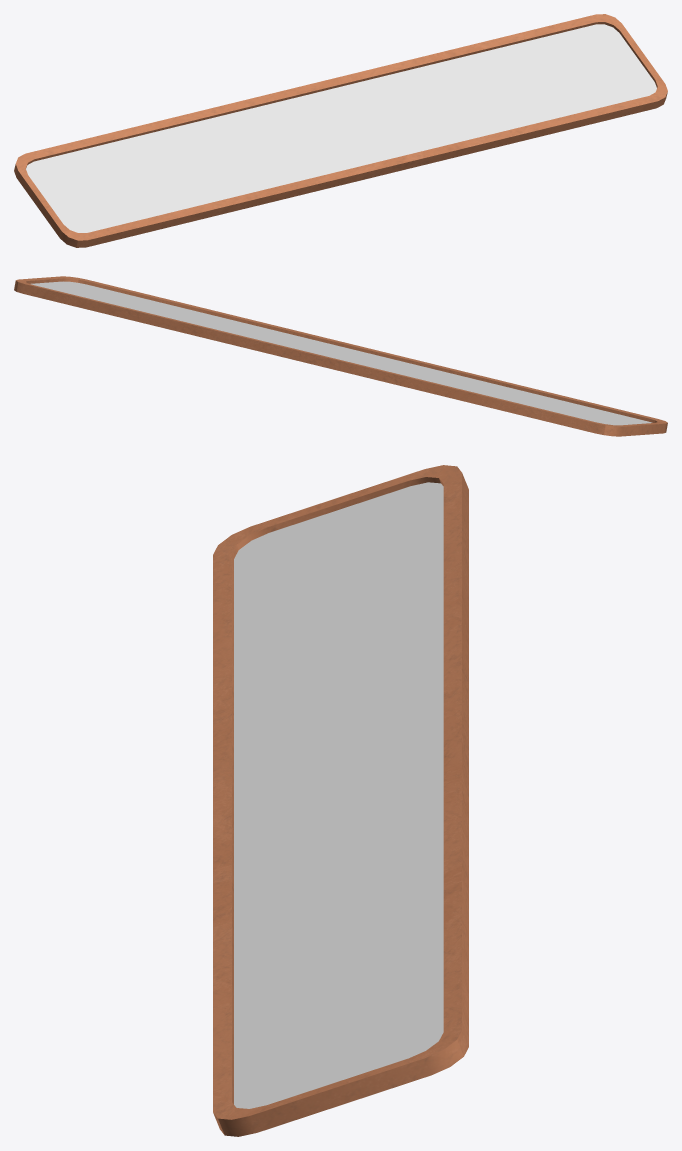
The model's file is InfoTable_Head.fbx.
The picture shows the model from 3 angles, top to bottom: view 1: azimuth 30°, elevation 25°; view 2: azimuth 150°, elevation 25°; view 3: azimuth 270°, elevation 25°; orthographic projection. The views are drawn at different scales.
Visible parts, largest first — view 1: InfoTable_Headline_Base; view 2: InfoTable_Headline_Base; view 3: InfoTable_Headline_Base.
Boxes of the visible parts, bbox=[...] form: InfoTable_Headline_Base: bbox=[14, 14, 667, 247]; InfoTable_Headline_Base: bbox=[14, 276, 667, 436]; InfoTable_Headline_Base: bbox=[213, 465, 468, 1136].
Bounding box in the file's own units: 44.88 × 3.53 × 8.24.
